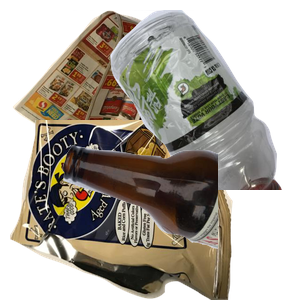glass: (60, 142, 300, 300)
paper: (10, 10, 217, 189)
plastic: (73, 10, 300, 190)
trash: (10, 120, 235, 300)
